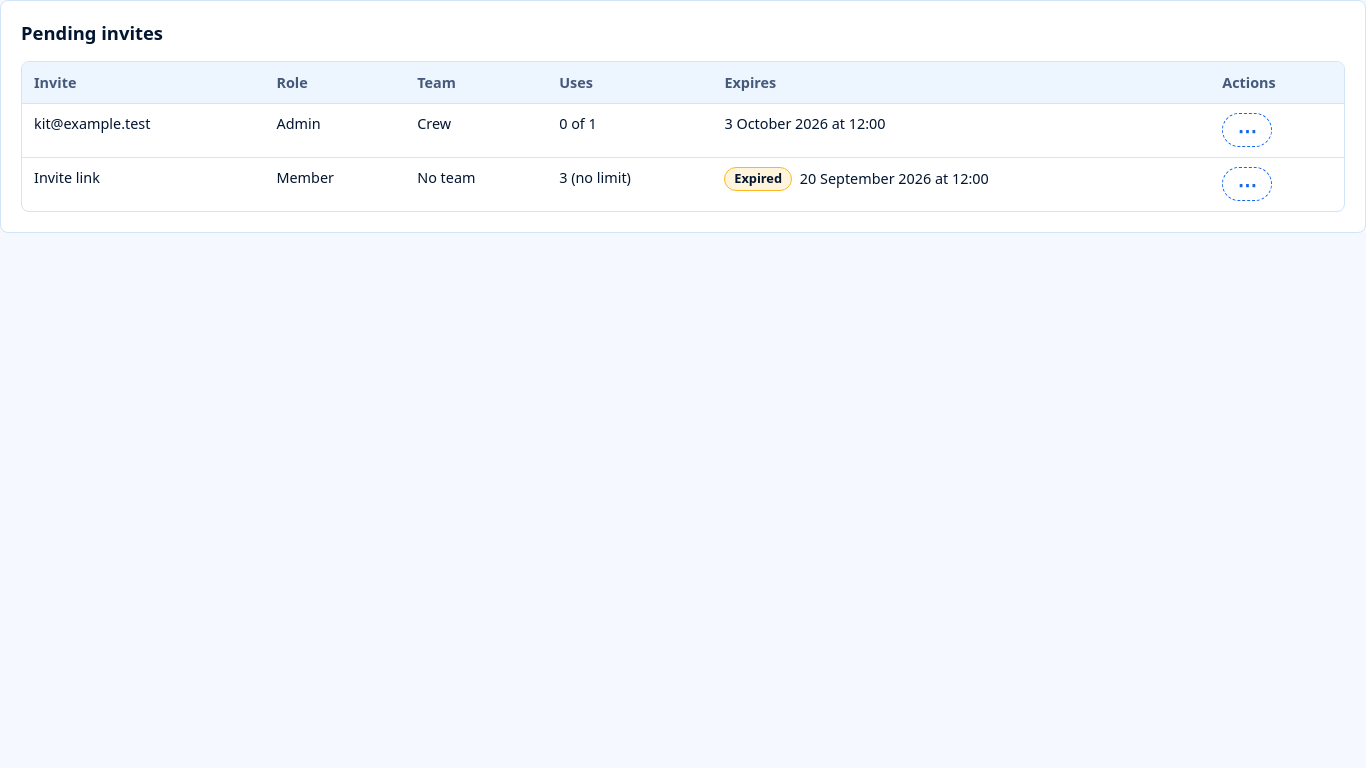
Test: InviteList revoking an invite › says a revoked link stops working for everyone who has it
The width and height of the screenshot is (1366, 768).
Click the button named "Actions for ".
click(1247, 184)  # box [1222,168,1272,202]
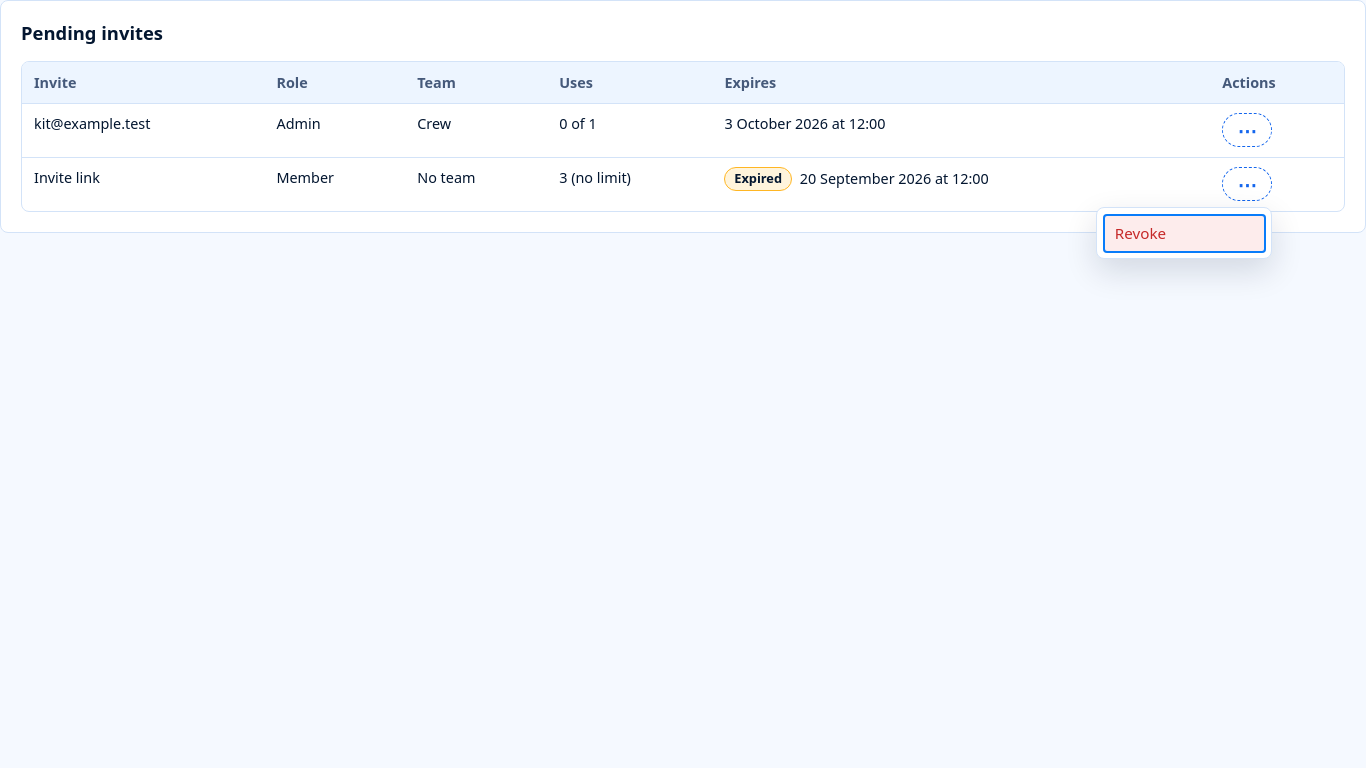
Click the menu item "Revoke".
click(1184, 234)  # box [1103,214,1266,253]
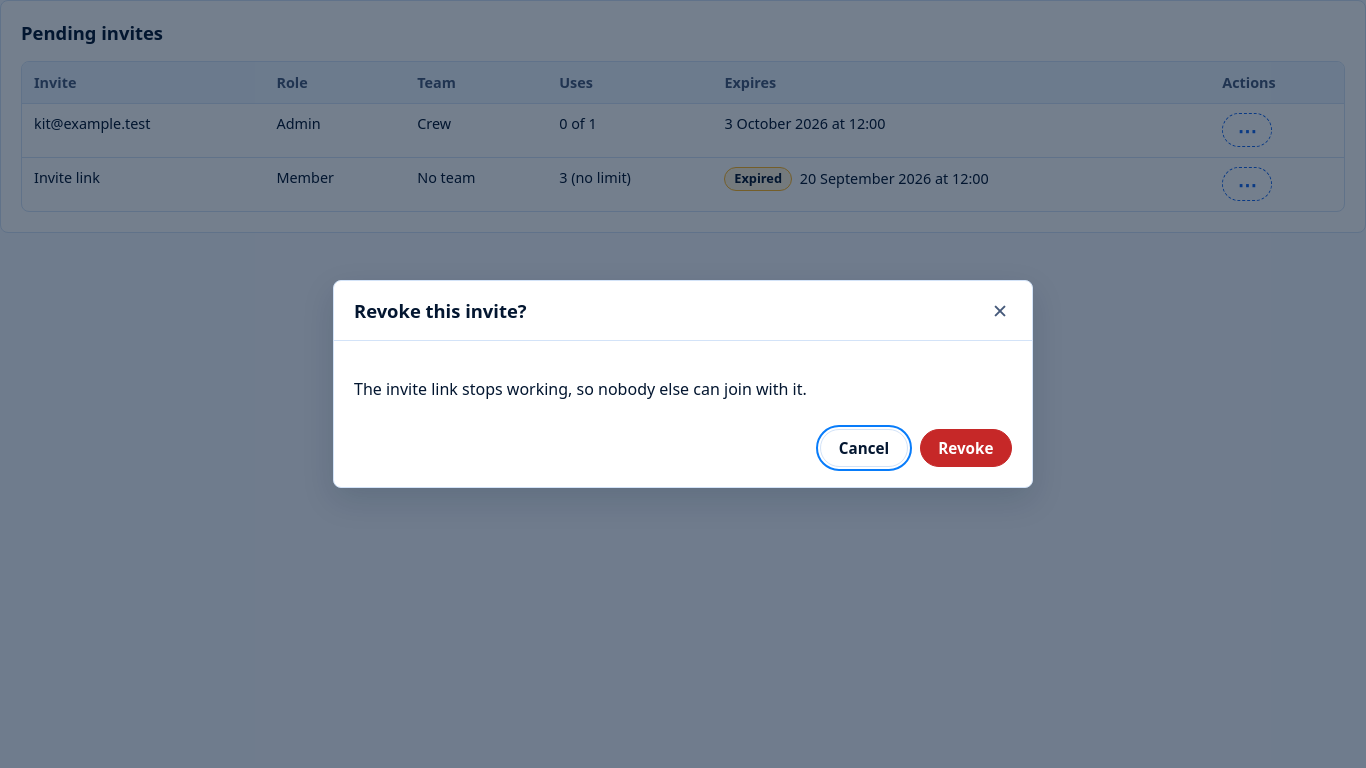
expect the dialog "Revoke this invite?" shows "The invite link stops working, so nobody else can join with it.": met, box [354,378,807,400]
